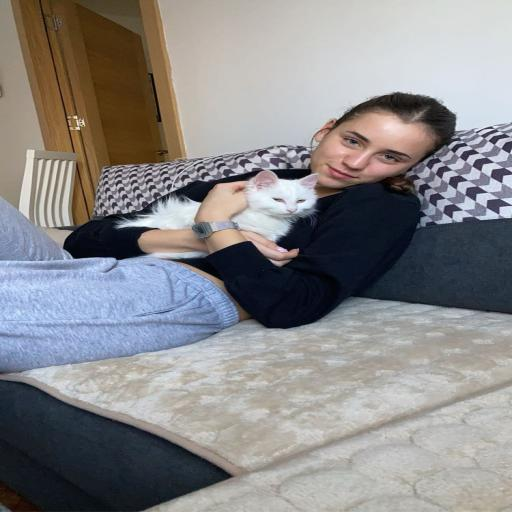masa: (320, 106, 431, 183)
